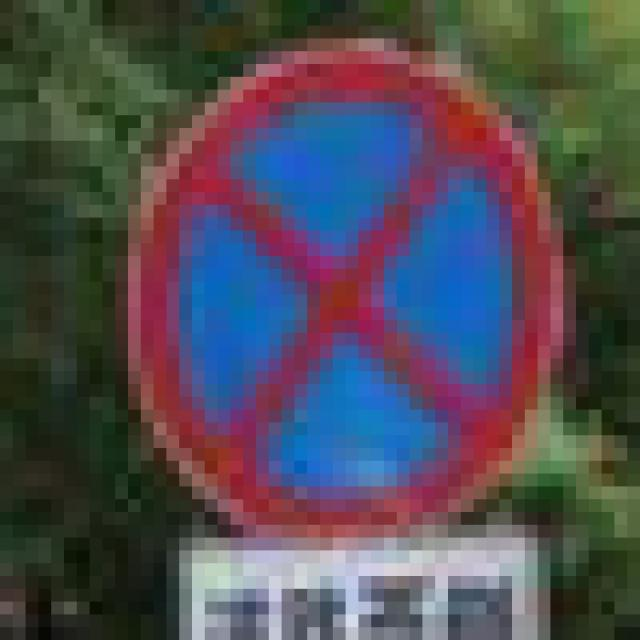NO_STOPPING_OR_STANDING: (115, 26, 550, 524)
